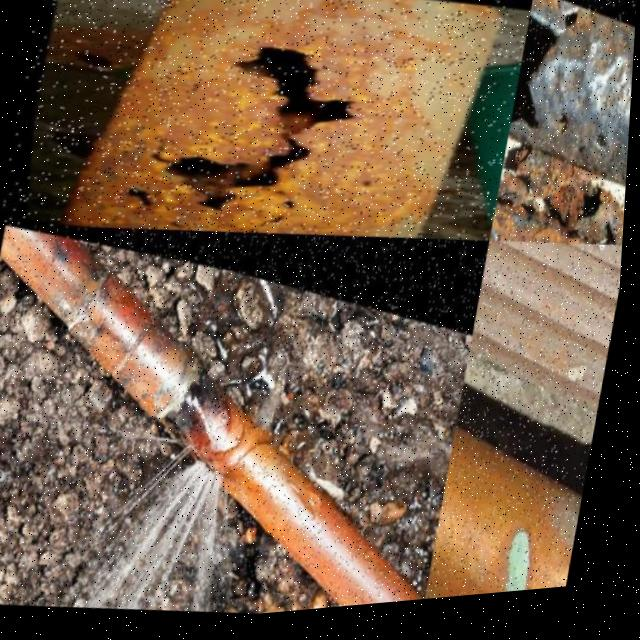hole: (143, 143, 287, 233), (214, 31, 335, 103), (511, 1, 569, 146), (249, 85, 360, 144), (102, 177, 157, 214), (127, 208, 185, 236), (576, 192, 611, 236), (542, 202, 573, 242), (559, 6, 584, 43), (592, 123, 615, 159), (553, 106, 575, 141), (508, 150, 529, 181), (571, 134, 592, 164), (190, 229, 245, 240), (273, 196, 298, 215), (522, 210, 540, 233), (520, 179, 537, 203)
rupture: (181, 429, 233, 473)
